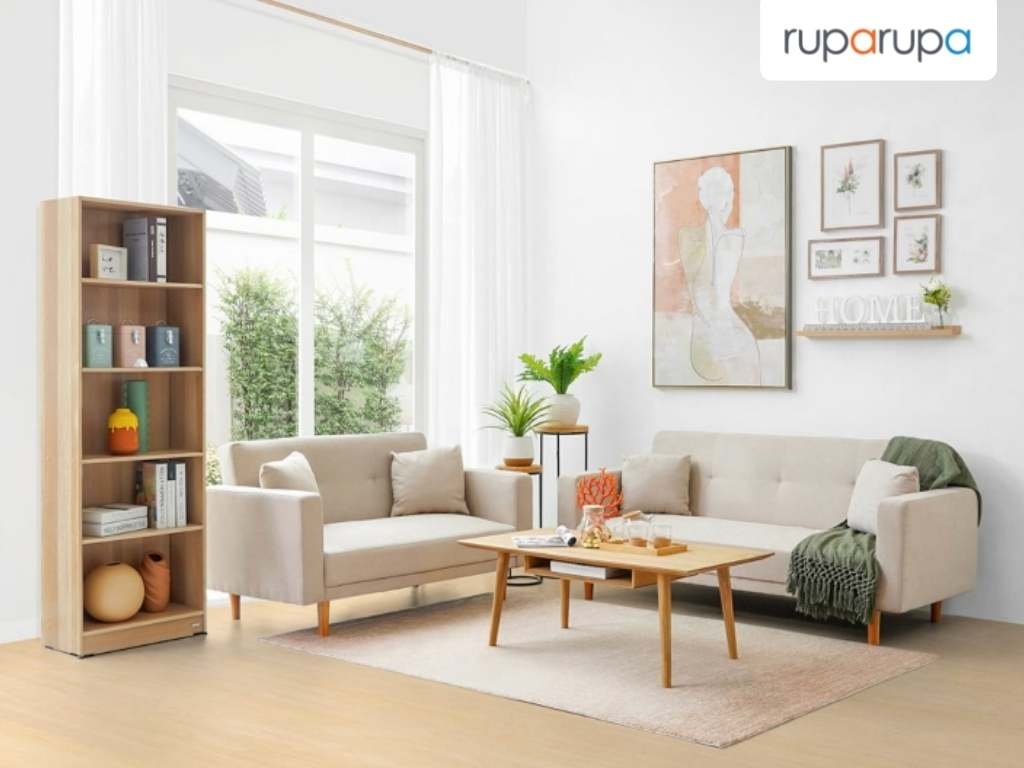Painting: (645, 150, 796, 398), (814, 140, 887, 232), (892, 215, 951, 279), (891, 147, 948, 212), (804, 238, 891, 278)
Plant: (508, 346, 620, 428), (479, 383, 552, 472)
Sofa: (553, 429, 1000, 635), (210, 423, 533, 630)
Table: (465, 517, 768, 676)
